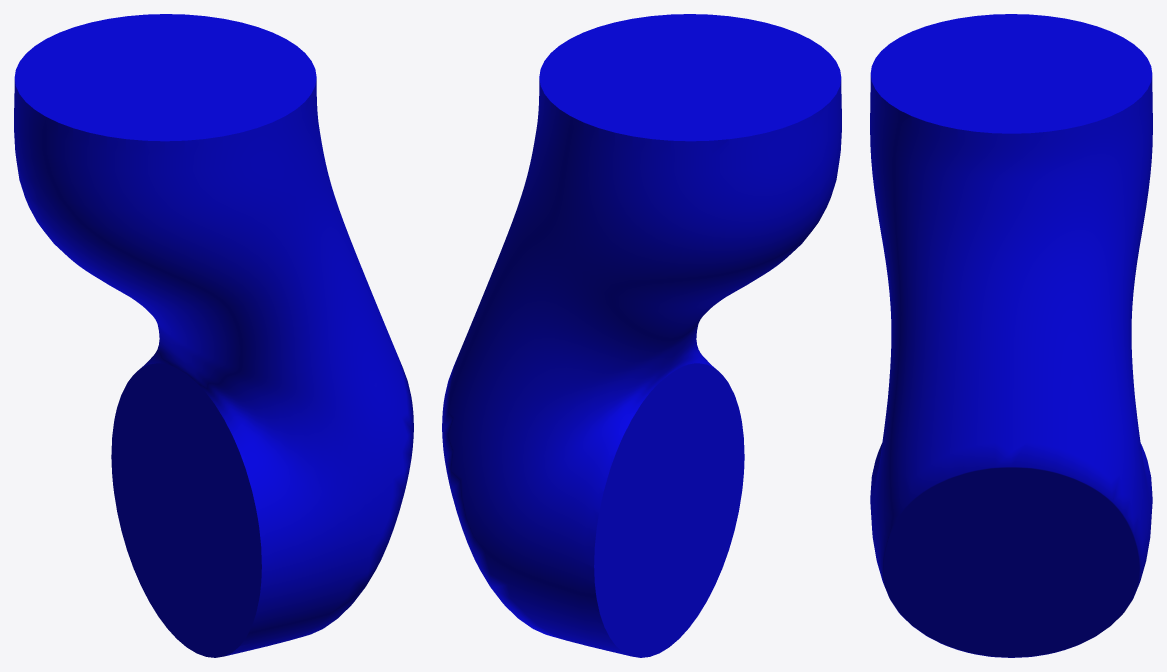
3 views of the same model, side by side, from view 1: azimuth 30°, elevation 25°; view 2: azimuth 150°, elevation 25°; view 3: azimuth 270°, elevation 25° (orthographic). The views are drawn at different scales.
Visible parts, largest first — view 1: link4; view 2: link4; view 3: link4.
Boxes of the visible parts, x1,y1,x2,y2 form: link4: [14, 14, 413, 657]; link4: [442, 14, 841, 657]; link4: [870, 14, 1152, 657].
Bounding box in the file's own units: 0.1581 × 0.119 × 0.2502.
